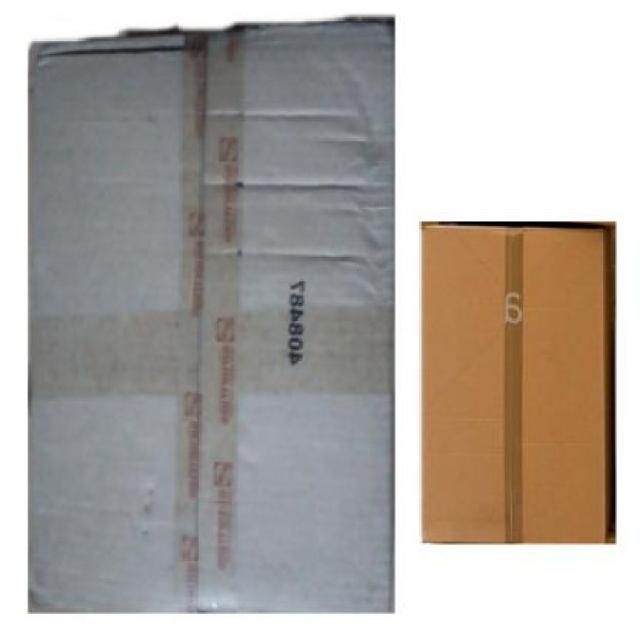cardboxes: (26, 31, 397, 612), (422, 224, 610, 544)
